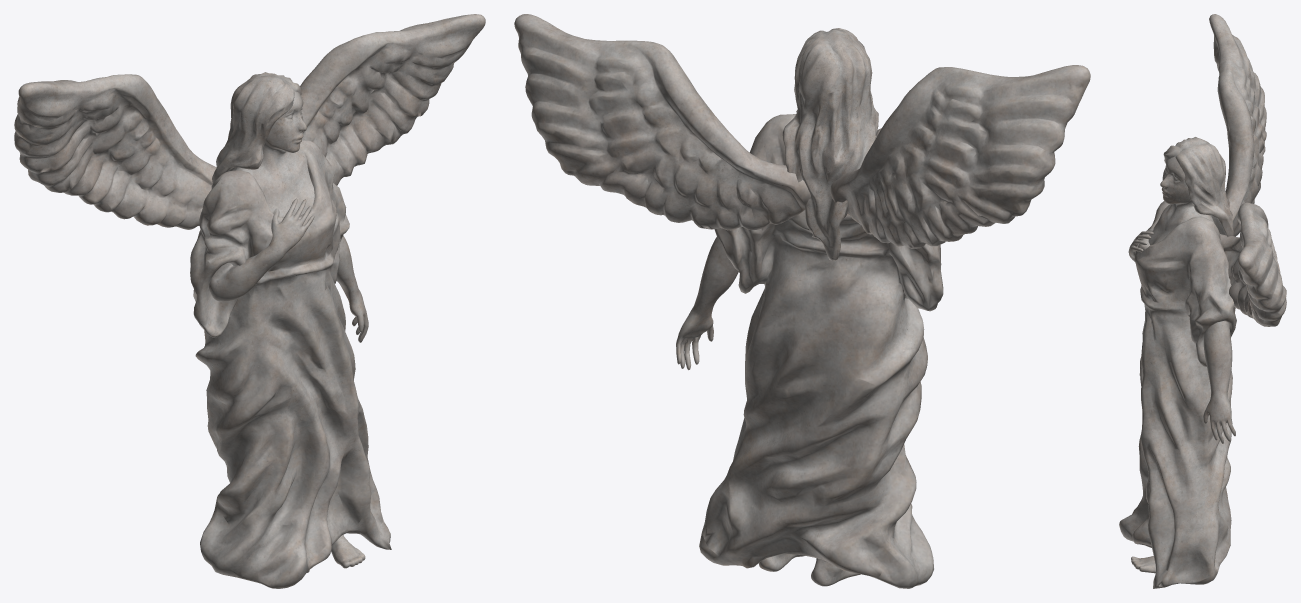
The model's file is Statue_C.fbx.
3 views of the same model, side by side, from view 1: azimuth 30°, elevation 25°; view 2: azimuth 150°, elevation 25°; view 3: azimuth 270°, elevation 25° (orthographic). The views are drawn at different scales.
Visible parts, largest first — view 1: Statue_C; view 2: Statue_C; view 3: Statue_C.
Boxes of the visible parts, box(x1,y1,x2,y2) form: Statue_C: box(14, 14, 485, 588); Statue_C: box(514, 14, 1090, 588); Statue_C: box(1119, 14, 1286, 588).
Size of the model in its own units: 6.47 by 6.65 by 2.3.
